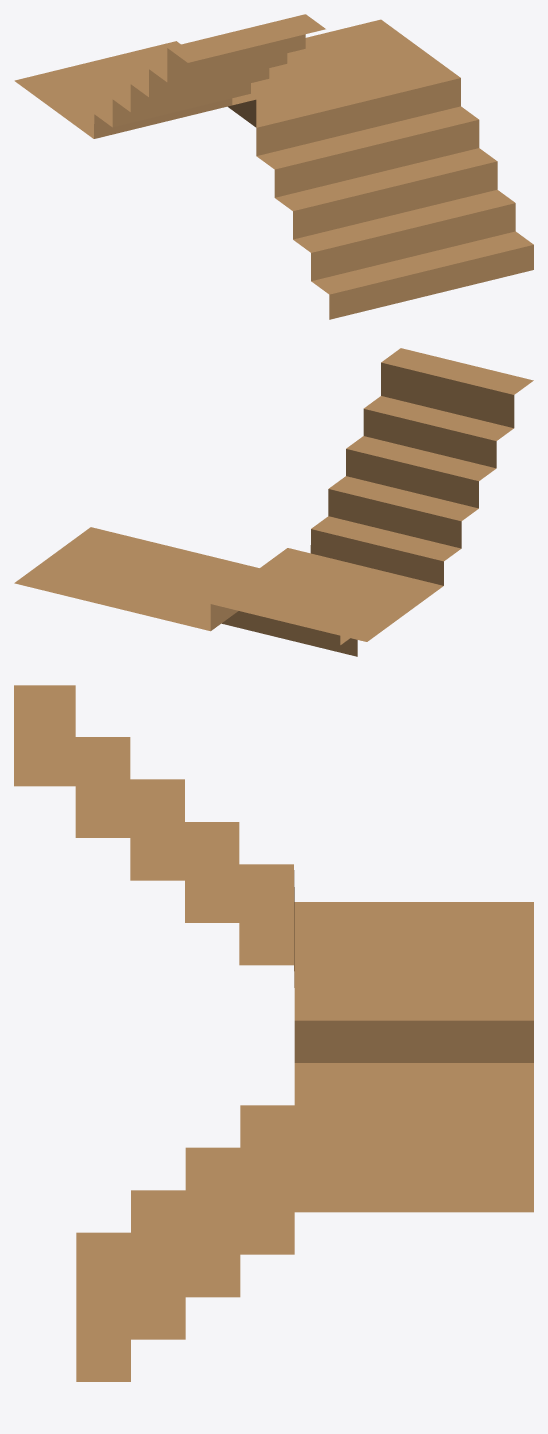
Rendered from house_structure_innerStars.fbx.
3 views of the same model, one above another, from view 1: azimuth 30°, elevation 25°; view 2: azimuth 150°, elevation 25°; view 3: azimuth 270°, elevation 25° (orthographic). The views are drawn at different scales.
Visible parts, largest first — view 1: pCube50; view 2: pCube50; view 3: pCube50.
Part boxes in pixels (x1,y1,x2,y2): pCube50: (14,14,533,319); pCube50: (14,348,533,656); pCube50: (14,685,533,1381).
Size of the model in its own units: 305 by 248 by 250.
